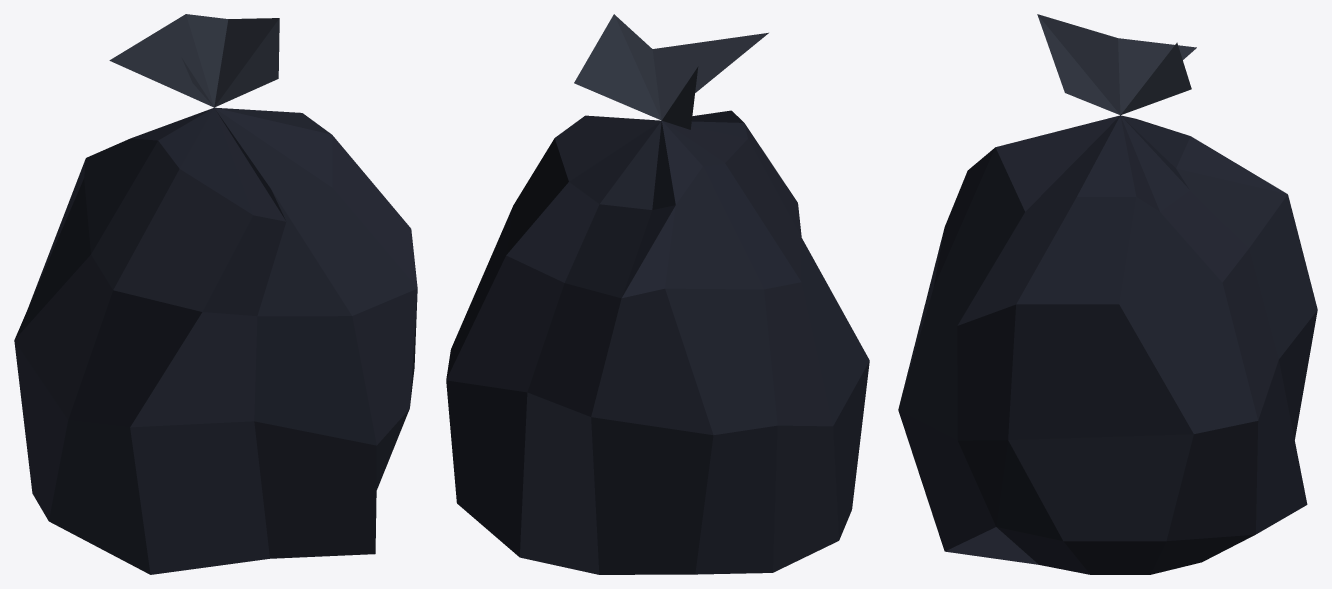
The model's file is trash-bag.glb.
The picture shows the model from 3 angles, left to right: view 1: azimuth 30°, elevation 25°; view 2: azimuth 150°, elevation 25°; view 3: azimuth 270°, elevation 25°; orthographic projection. The views are drawn at different scales.
Visible parts, largest first — view 1: bag-col, edge; view 2: bag-col, edge; view 3: bag-col, edge.
Boxes of the visible parts, x1=… form: bag-col: x1=14, y1=107, x2=417, y2=574; edge: x1=109, y1=14, x2=279, y2=107; bag-col: x1=446, y1=110, x2=869, y2=574; edge: x1=574, y1=14, x2=768, y2=129; bag-col: x1=898, y1=115, x2=1317, y2=574; edge: x1=1037, y1=14, x2=1196, y2=115.
Bounding box in the file's own units: 0.8768 × 1.2 × 0.9437.
Materials: 2 (2 with a texture image).
